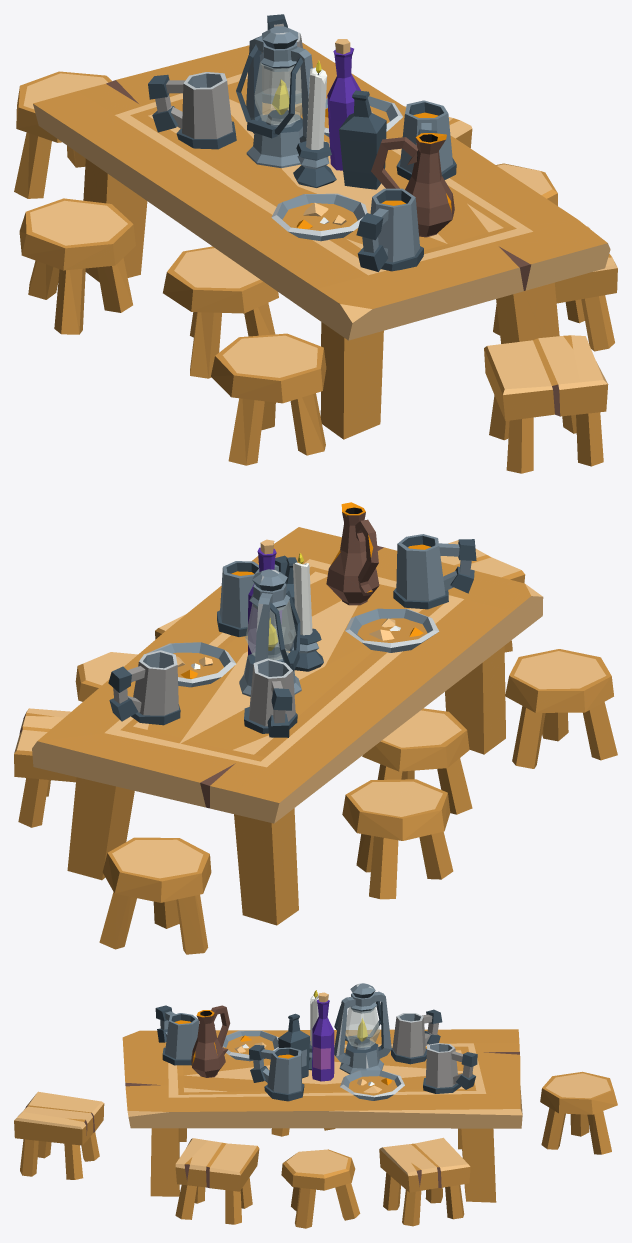
Rendered from BarTable-transformed.glb.
3 renders of one model, top to bottom at view 1: azimuth 30°, elevation 25°; view 2: azimuth 150°, elevation 25°; view 3: azimuth 270°, elevation 25°, orthographic. The views are drawn at different scales.
Visible parts, largest first — view 1: group1409490378, group1523682768; view 2: group1409490378, group1523682768; view 3: group1409490378, group1523682768.
Boxes of the visible parts, x1,y1,x2,y2 form: group1409490378: (14, 14, 617, 473); group1523682768: (254, 62, 302, 124); group1409490378: (14, 502, 617, 954); group1523682768: (245, 600, 296, 660); group1409490378: (14, 983, 617, 1228); group1523682768: (345, 1007, 380, 1047).
Bounding box in the file's own units: 1.87 × 1.11 × 3.24.
Materials: 2 (2 with a texture image).
